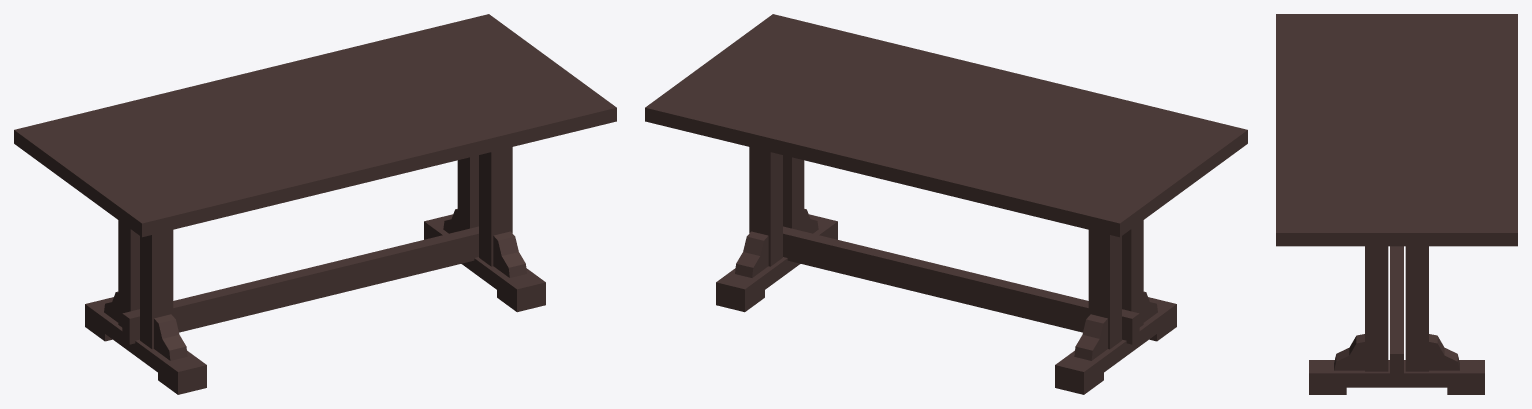
File: table_1.fbx
3 views of the same model, side by side, from view 1: azimuth 30°, elevation 25°; view 2: azimuth 150°, elevation 25°; view 3: azimuth 270°, elevation 25° (orthographic). The views are drawn at different scales.
Visible parts, largest first — view 1: Table; view 2: Table; view 3: Table.
Part boxes in pixels (x1,y1,x2,y2): Table: [14, 14, 616, 394]; Table: [645, 14, 1247, 394]; Table: [1276, 14, 1517, 394].
Bounding box in the file's own units: 535 × 212 × 250.
